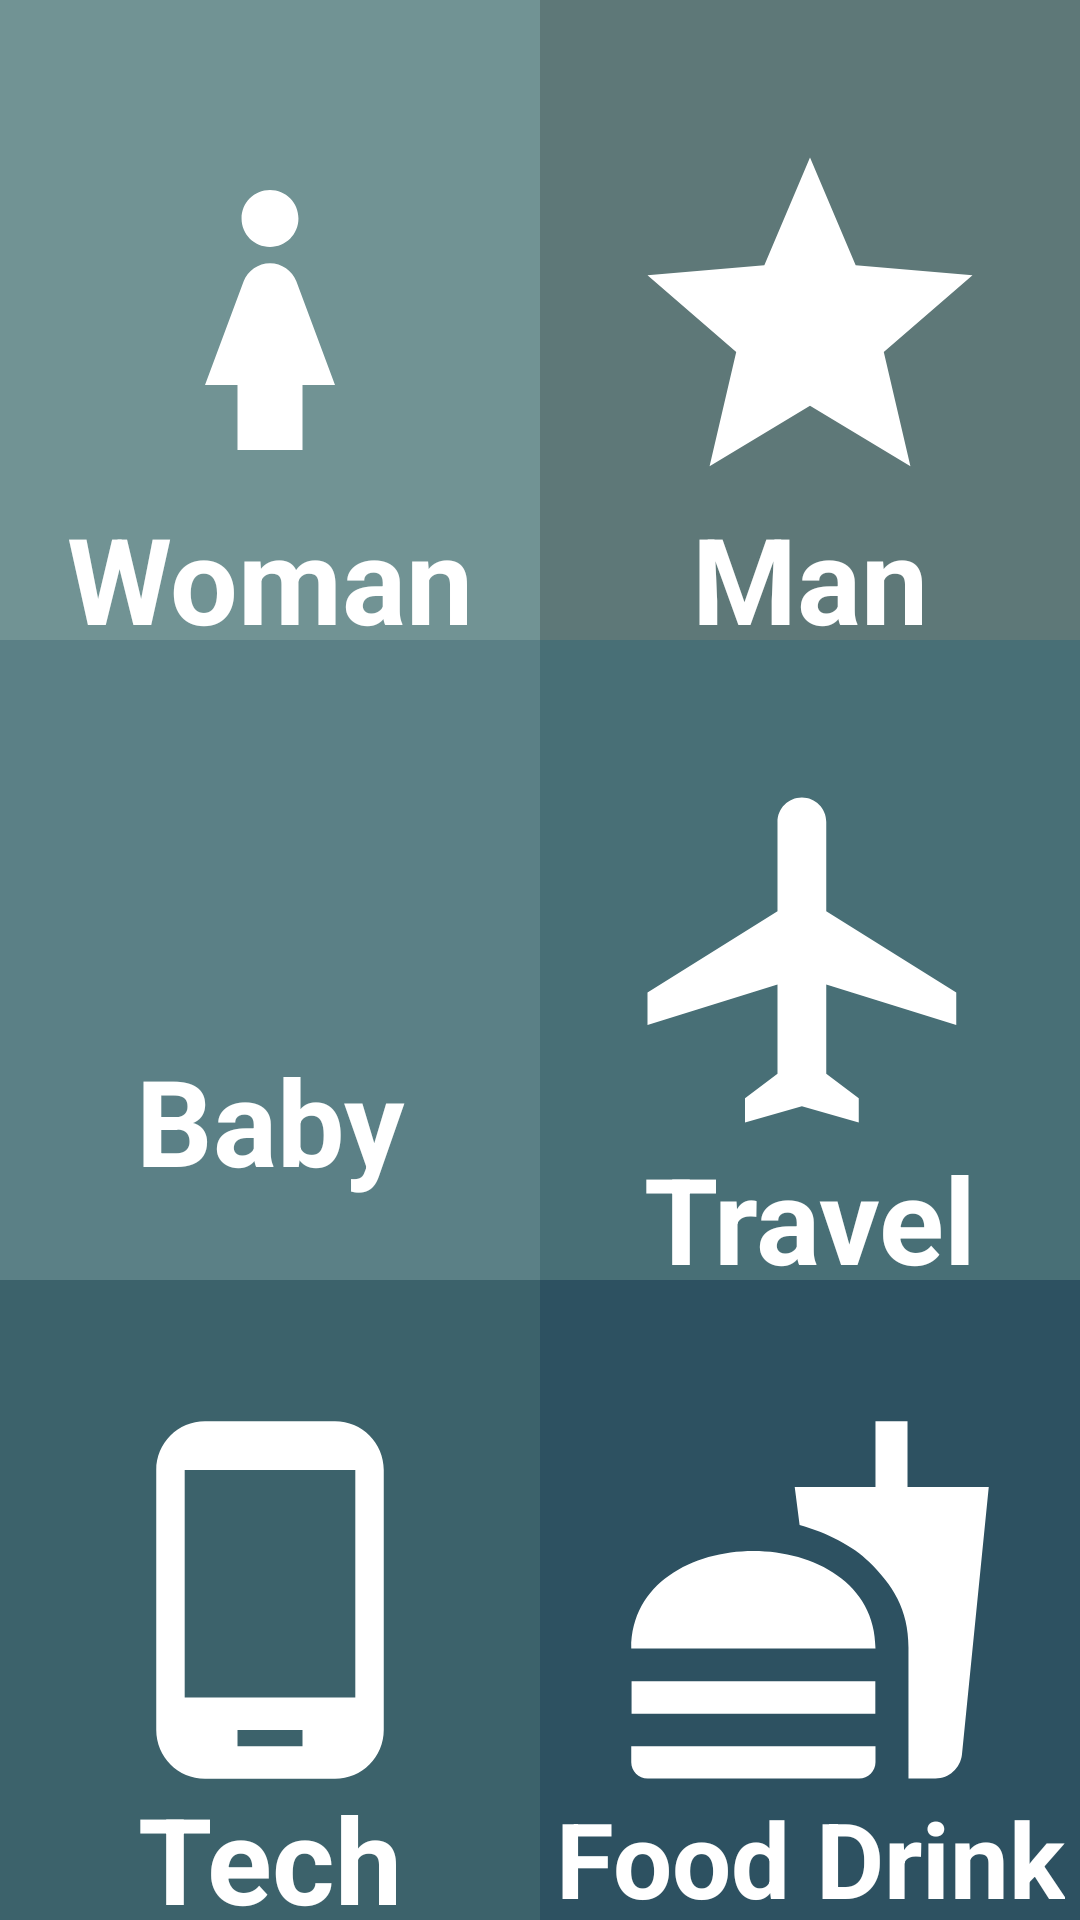

Named icons in this screenshot (1080x1920) and their bounding boxes, (x1, y1, x2, y2):
girl: (205, 190, 335, 450)
